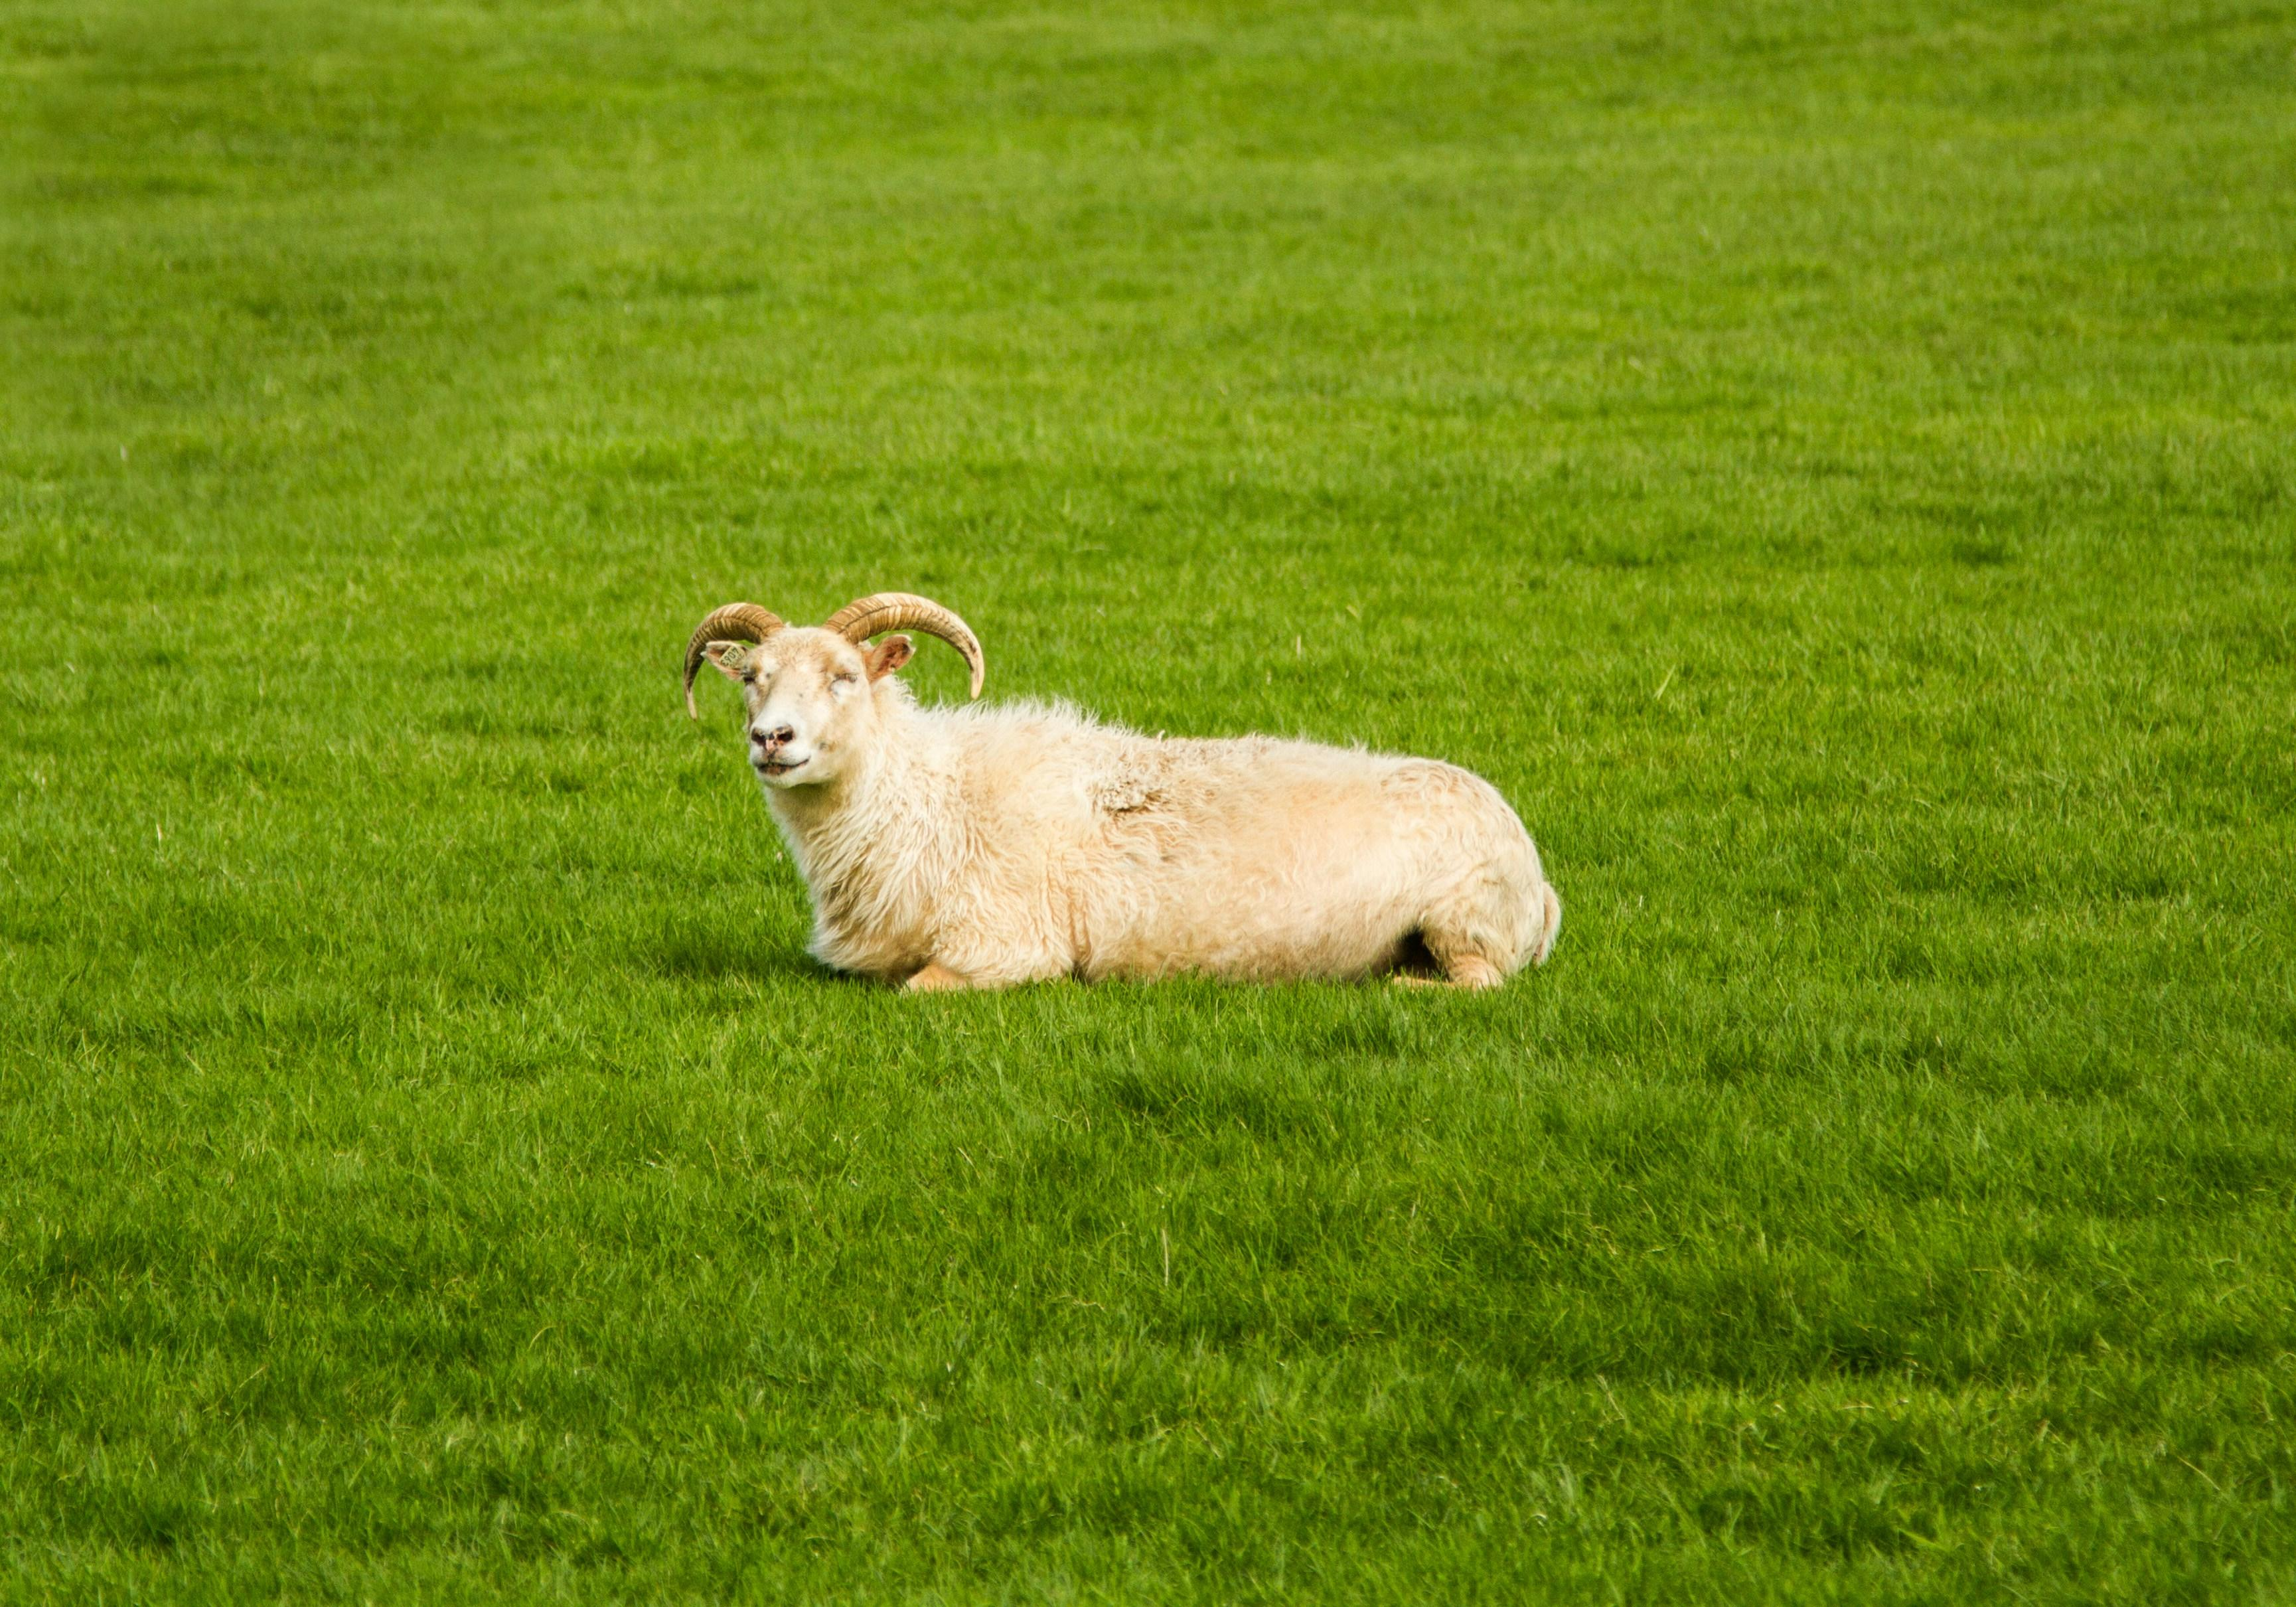sheep: (684, 589, 1562, 1000)
